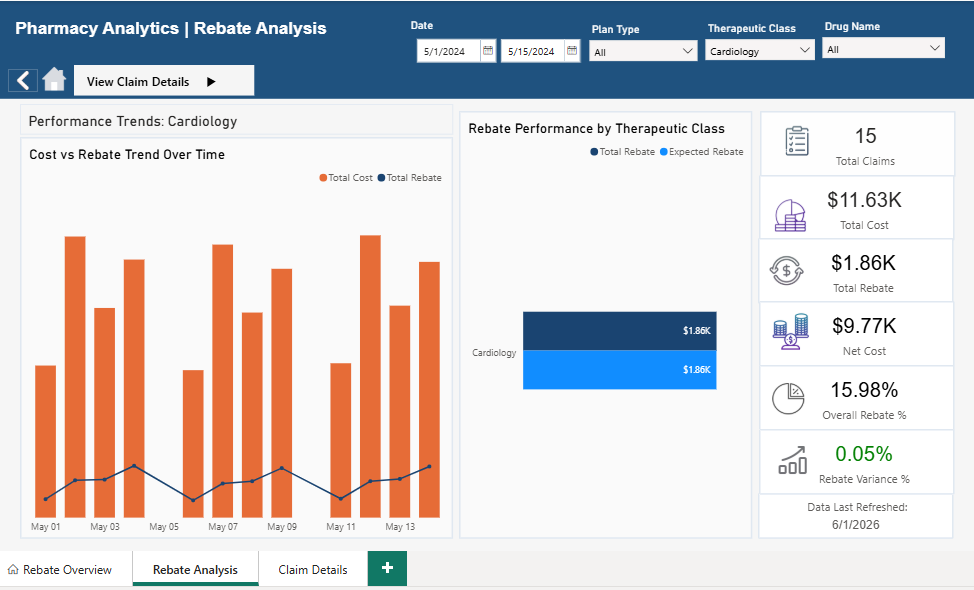

Layout of this report page (visuals, bound fields, positions):
{"tool":"powerbi","page":{"name":"Rebate Analysis","canvas":[1280,720],"ordinal":1},"visuals":[{"type":"shape","box":[0,0,1280.2,128.2],"z":0},{"type":"clusteredBarChart","title":"Rebate Performance by Therapeutic Class","fields":{"Category":["Drugs.Therapeutic_Class"],"Y":["Measures Table.Total Rebate","Measures Table.Expected Rebate"]},"box":[589,181.4,398.9,525.6],"z":1000},{"type":"lineClusteredColumnComboChart","title":"Cost vs Rebate Trend Over Time","fields":{"Category":["DateTable.Date"],"Y":["Measures Table.Total Cost","select"],"Y2":["Sum(Claims.Rebate_Amount)"]},"box":[28.8,181.4,551.5,525.6],"z":2000},{"type":"actionButton","box":[28.8,144,959,31.7],"z":3000},{"type":"slicer","fields":{"Values":["Drugs.Drug_Name"]},"box":[1069.9,20.2,180,57.6],"z":4000},{"type":"slicer","fields":{"Values":["Drugs.Therapeutic_Class"]},"box":[915.8,21.6,162.7,59],"z":5000},{"type":"slicer","fields":{"Values":["Plans.Plan_Type"]},"box":[764.6,23,161.3,60.5],"z":6000},{"type":"slicer","title":"Date","fields":{"Values":["Claims.Date"]},"box":[535.7,23,233.3,60.5],"z":7000},{"type":"image","box":[50.4,80.6,47.5,41.8],"z":8000},{"type":"group","id":"g1","title":"Group 7","box":[995,137.4,256.3,86.4],"z":9000},{"type":"card","title":"Data Last Refreshed:","fields":{"Values":["Min(RefreshDate.RefreshDate)"]},"box":[995,645.1,256.3,61.9],"z":10000},{"type":"group","id":"g2","title":"Group 2","box":[995,221.4,256.3,86.4],"z":11000},{"type":"group","id":"g3","title":"Group 3","box":[995,306.3,256.3,86.4],"z":12000},{"type":"group","id":"g4","title":"Group 4","box":[995,391.3,256,86],"z":13000},{"type":"card","title":"Rebate Variance  %","fields":{"Values":["Measures List.Rebate Variance %"]},"box":[995,560.7,256,86],"z":13000,"group":"g12"},{"type":"group","id":"g5","title":"Group 5","box":[995,474.8,256.3,86.4],"z":14000},{"type":"card","title":"Overall Rebate %","fields":{"Values":["Measures List.Rebate %"]},"box":[995,474.8,256.3,86.4],"z":14000,"group":"g11"},{"type":"card","title":"Net Cost","fields":{"Values":["Claims.Net Cost"]},"box":[995,391.3,256,86],"z":15000,"group":"g10"},{"type":"group","id":"g6","title":"Group 6","box":[995,560.7,256,86],"z":15000},{"type":"image","box":[13,89.3,38.9,30.2],"z":16000},{"type":"card","title":"Total Rebate","fields":{"Values":["Claims.Total Rebate"]},"box":[995,306.3,256.3,86.4],"z":16000,"group":"g9"},{"type":"group","id":"g7","title":"Group 14","box":[99.1,83.7,212.1,39],"z":17000},{"type":"card","title":"Total Cost","fields":{"Values":["Claims.Total Cost"]},"box":[995,221.4,256.3,86.4],"z":17000,"group":"g8"},{"type":"actionButton","box":[99.1,83.7,212.1,39],"z":19000,"group":"g7"},{"type":"card","title":"Total Claims","fields":{"Values":["Claims.Total Claims"]},"box":[995,137.4,256.3,86.4],"z":19000,"group":"g1"},{"type":"actionButton","box":[99.1,85.1,212.1,36.1],"z":19500,"group":"g7"},{"type":"group","id":"g8","title":"Group 8","box":[995,221.4,256.3,86.4],"z":23001,"group":"g2"},{"type":"group","id":"g9","title":"Group 9","box":[995,306.3,256.3,86.4],"z":23001,"group":"g3"},{"type":"group","id":"g10","title":"Group 10","box":[995,391.3,256,86],"z":23001,"group":"g4"},{"type":"group","id":"g11","title":"Group 11","box":[995,474.8,256.3,86.4],"z":23001,"group":"g5"},{"type":"group","id":"g12","title":"Group 12","box":[995,560.7,256,86],"z":23001,"group":"g6"},{"type":"image","box":[995,245.9,61.9,56.2],"z":24000,"group":"g8"},{"type":"image","box":[1009.4,495,47.5,49],"z":25000,"group":"g11"},{"type":"image","box":[1009.4,322.1,46.1,53.3],"z":26000,"group":"g9"},{"type":"image","box":[1012.3,405.7,49,50.4],"z":27000,"group":"g10"},{"type":"image","box":[1025,144.6,41.8,61.9],"z":28000,"group":"g1"},{"type":"image","box":[1012.2,580.3,54.7,41.8],"z":29000,"group":"g12"}]}

Visuals, with their boxes on the page's 1280x720 design canvas (x1, y1, x2, y2). These are canvas units, not pixel positions in the 974x590 screenshot, which may show the page scaled, cropped or inside an application window:
shape: x1=0 y1=0 x2=1280 y2=128
"Rebate Performance by Therapeutic Class" clusteredBarChart: x1=589 y1=181 x2=988 y2=707
"Cost vs Rebate Trend Over Time" lineClusteredColumnComboChart: x1=29 y1=181 x2=580 y2=707
actionButton: x1=29 y1=144 x2=988 y2=176
slicer - Drugs.Drug_Name: x1=1070 y1=20 x2=1250 y2=78
slicer - Drugs.Therapeutic_Class: x1=916 y1=22 x2=1078 y2=81
slicer - Plans.Plan_Type: x1=765 y1=23 x2=926 y2=84
"Date" slicer: x1=536 y1=23 x2=769 y2=84
image: x1=50 y1=81 x2=98 y2=122
"Group 7" group: x1=995 y1=137 x2=1251 y2=224
"Data Last Refreshed:" card: x1=995 y1=645 x2=1251 y2=707
"Group 2" group: x1=995 y1=221 x2=1251 y2=308
"Group 3" group: x1=995 y1=306 x2=1251 y2=393
"Group 4" group: x1=995 y1=391 x2=1251 y2=477
"Rebate Variance  %" card: x1=995 y1=561 x2=1251 y2=647
"Group 5" group: x1=995 y1=475 x2=1251 y2=561
"Overall Rebate %" card: x1=995 y1=475 x2=1251 y2=561
"Net Cost" card: x1=995 y1=391 x2=1251 y2=477
"Group 6" group: x1=995 y1=561 x2=1251 y2=647
image: x1=13 y1=89 x2=52 y2=120
"Total Rebate" card: x1=995 y1=306 x2=1251 y2=393
"Group 14" group: x1=99 y1=84 x2=311 y2=123
"Total Cost" card: x1=995 y1=221 x2=1251 y2=308
actionButton: x1=99 y1=84 x2=311 y2=123
"Total Claims" card: x1=995 y1=137 x2=1251 y2=224
actionButton: x1=99 y1=85 x2=311 y2=121
"Group 8" group: x1=995 y1=221 x2=1251 y2=308
"Group 9" group: x1=995 y1=306 x2=1251 y2=393
"Group 10" group: x1=995 y1=391 x2=1251 y2=477
"Group 11" group: x1=995 y1=475 x2=1251 y2=561
"Group 12" group: x1=995 y1=561 x2=1251 y2=647
image: x1=995 y1=246 x2=1057 y2=302
image: x1=1009 y1=495 x2=1057 y2=544
image: x1=1009 y1=322 x2=1056 y2=375
image: x1=1012 y1=406 x2=1061 y2=456
image: x1=1025 y1=145 x2=1067 y2=206
image: x1=1012 y1=580 x2=1067 y2=622
